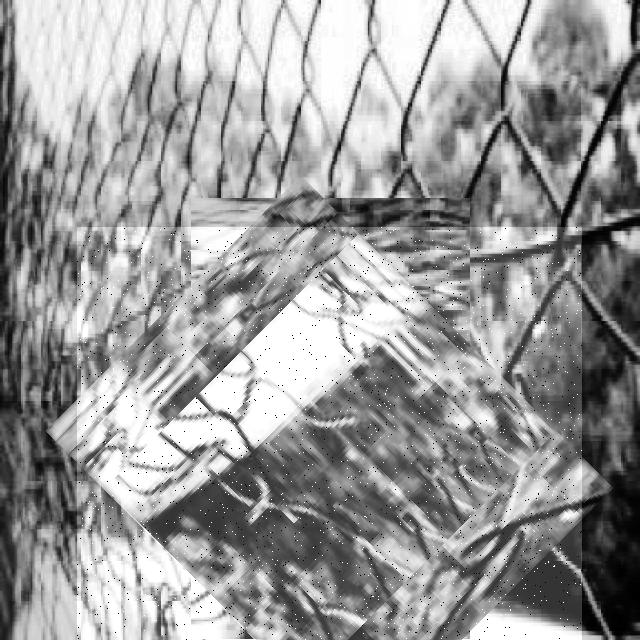anomaly-fence: (77, 227, 582, 640)
